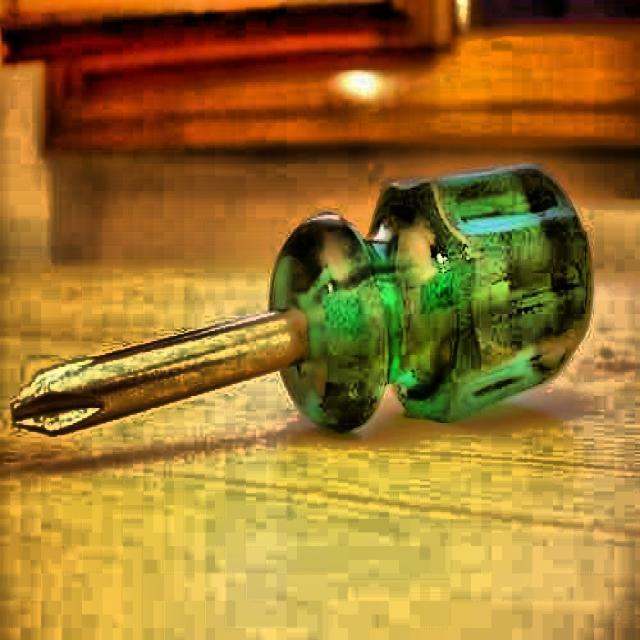screwdriver: (11, 163, 594, 435)
